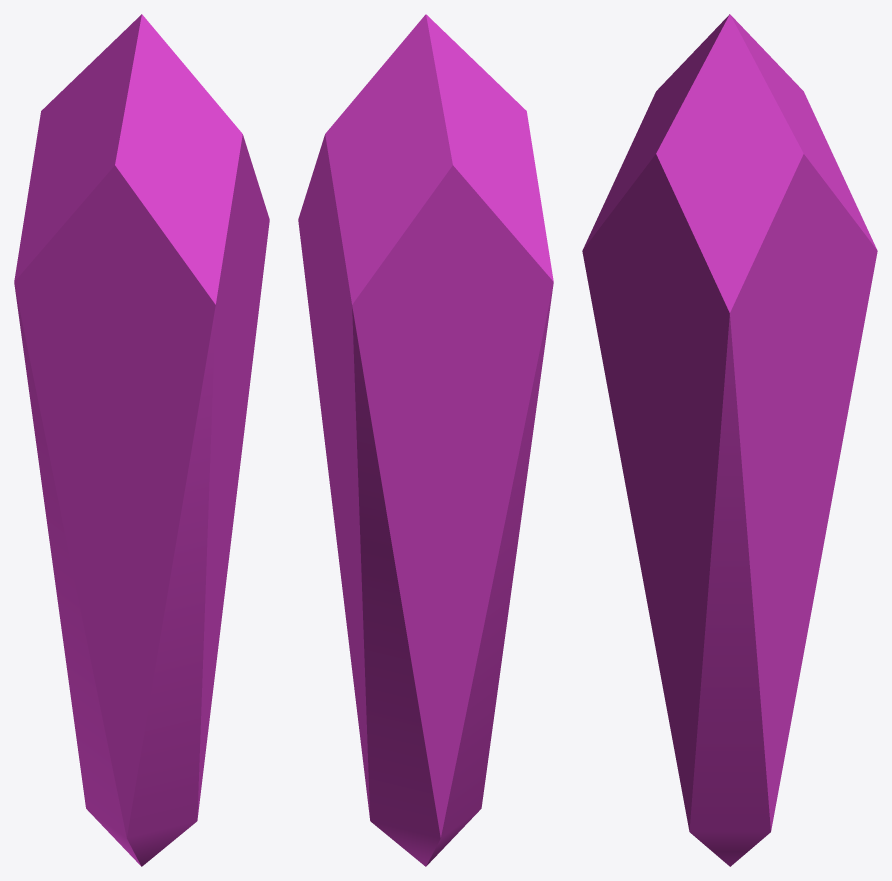
File: crystal.fbx
3 views of the same model, side by side, from view 1: azimuth 30°, elevation 25°; view 2: azimuth 150°, elevation 25°; view 3: azimuth 270°, elevation 25° (orthographic).
Visible parts, largest first — view 1: Plane002; view 2: Plane002; view 3: Plane002.
Boxes of the visible parts, x1,y1,x2,y2 form: Plane002: (14, 14, 269, 866); Plane002: (298, 14, 553, 866); Plane002: (582, 14, 877, 866).
Size of the model in its own units: 240 by 764 by 240.
